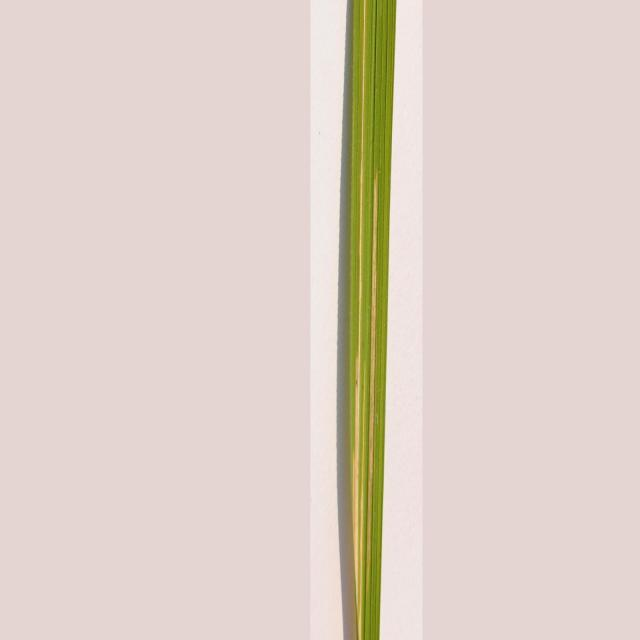Bacterial leaf blight: (339, 0, 399, 640)
